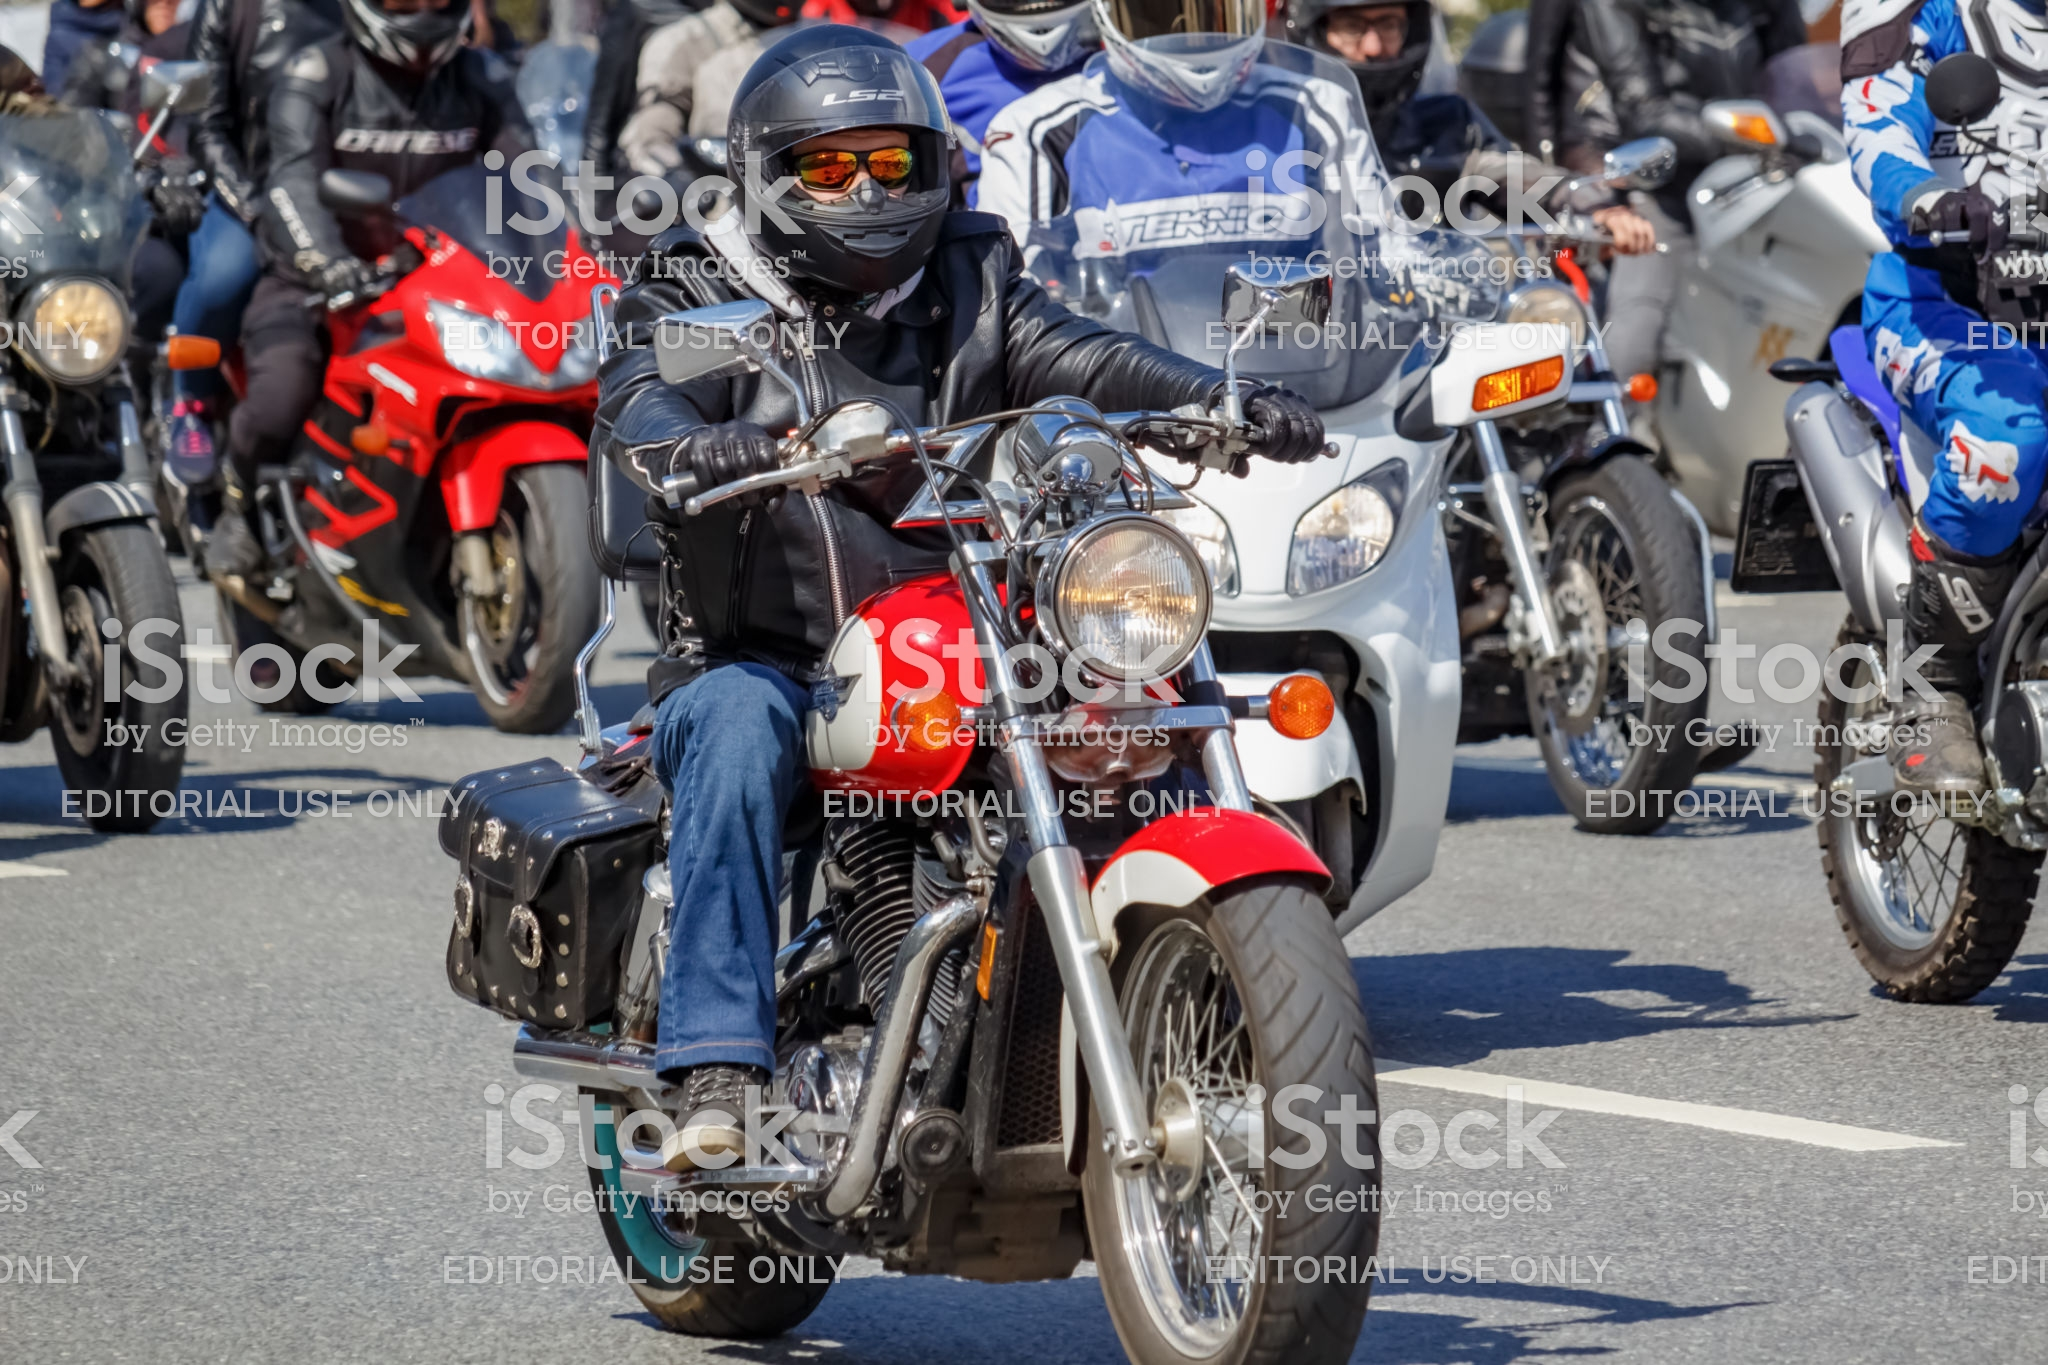helmet: (722, 30, 979, 265)
